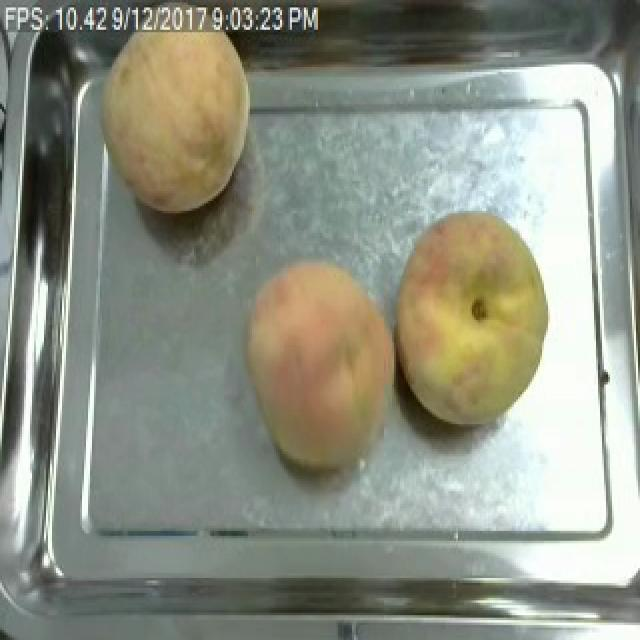Fruit: (236, 251, 406, 484), (386, 206, 558, 434), (88, 25, 258, 221)
